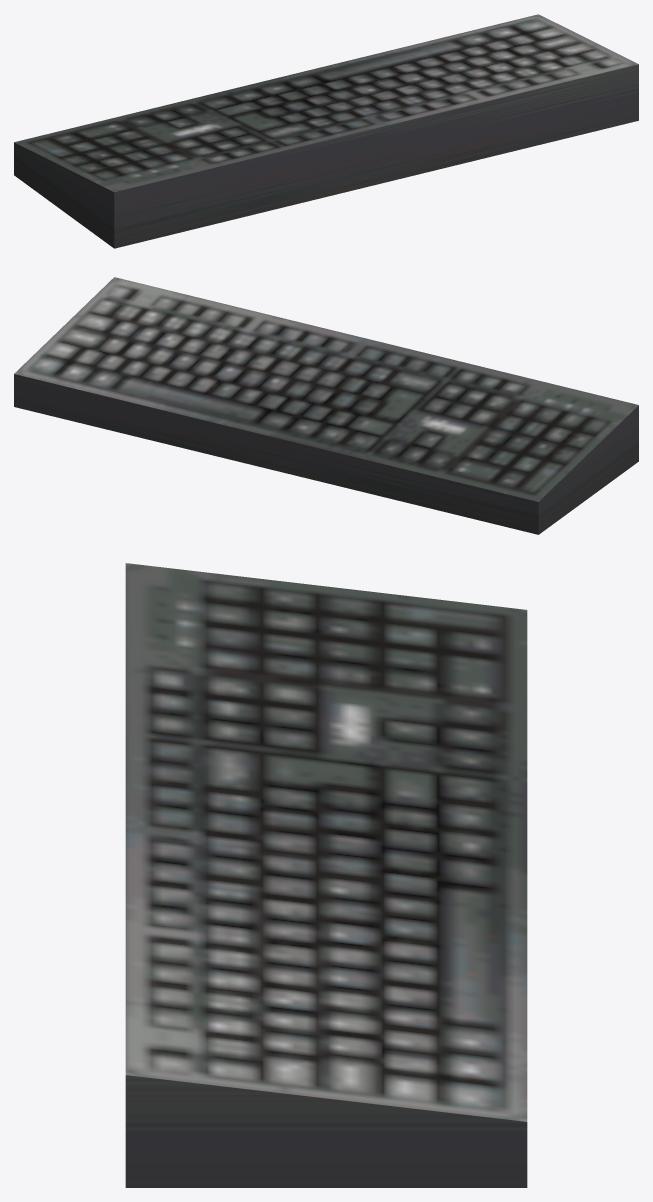
Rendered from 54ecd0ab-6ba0-440b-bed2-4f1eafcc2980.glb.
3 renders of one model, top to bottom at view 1: azimuth 30°, elevation 25°; view 2: azimuth 150°, elevation 25°; view 3: azimuth 270°, elevation 25°, orthographic. The views are drawn at different scales.
Visible parts, largest first — view 1: CommandCenterLikeFurniturekeyboard; view 2: CommandCenterLikeFurniturekeyboard; view 3: CommandCenterLikeFurniturekeyboard.
Boxes of the visible parts, <box> form: CommandCenterLikeFurniturekeyboard: <box>14,14,638,248</box>; CommandCenterLikeFurniturekeyboard: <box>14,277,638,534</box>; CommandCenterLikeFurniturekeyboard: <box>125,563,527,1187</box>.
Size of what is drawn, in the model's own units: 0.9627 by 0.0989 by 0.319.
Materials: 1 (1 with a texture image).
